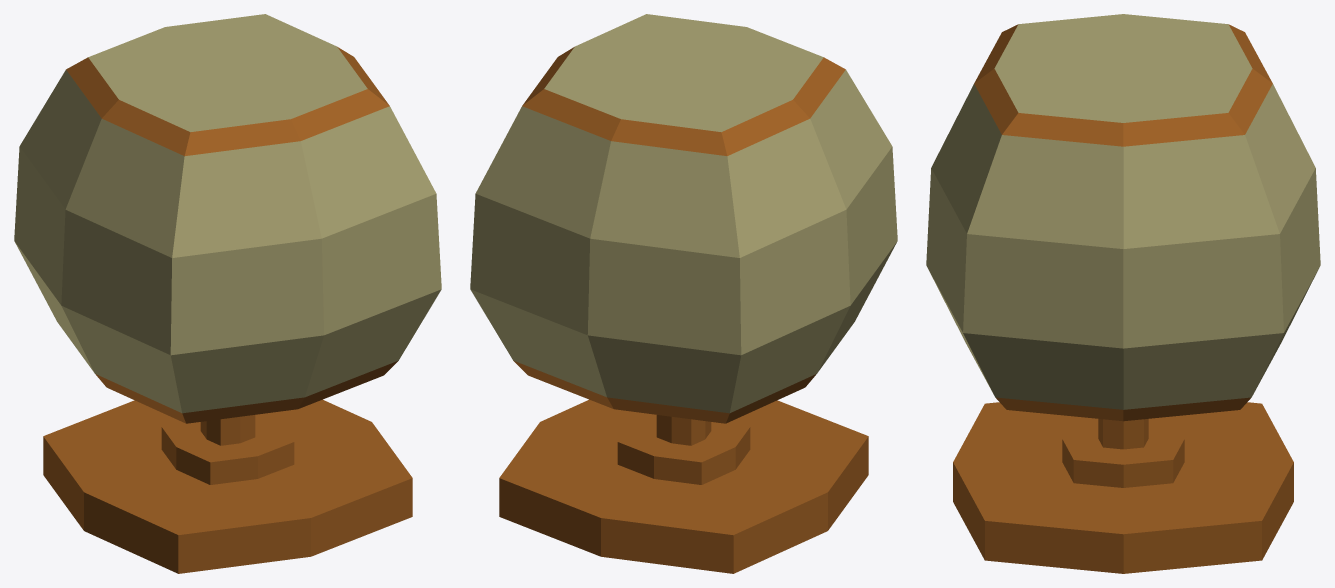
File: Vintage_Nightstand_Lamp_4.fbx
3 views of the same model, side by side, from view 1: azimuth 30°, elevation 25°; view 2: azimuth 150°, elevation 25°; view 3: azimuth 270°, elevation 25° (orthographic). The views are drawn at different scales.
Parts seen in each view (by area): view 1: Vintage_Nightstand_Lamp_4; view 2: Vintage_Nightstand_Lamp_4; view 3: Vintage_Nightstand_Lamp_4.
Part boxes in pixels (<box>): Vintage_Nightstand_Lamp_4: <box>14,14,441,573</box>; Vintage_Nightstand_Lamp_4: <box>470,14,897,573</box>; Vintage_Nightstand_Lamp_4: <box>926,14,1320,573</box>.
Size of the model in its own units: 999 by 1212 by 999.
